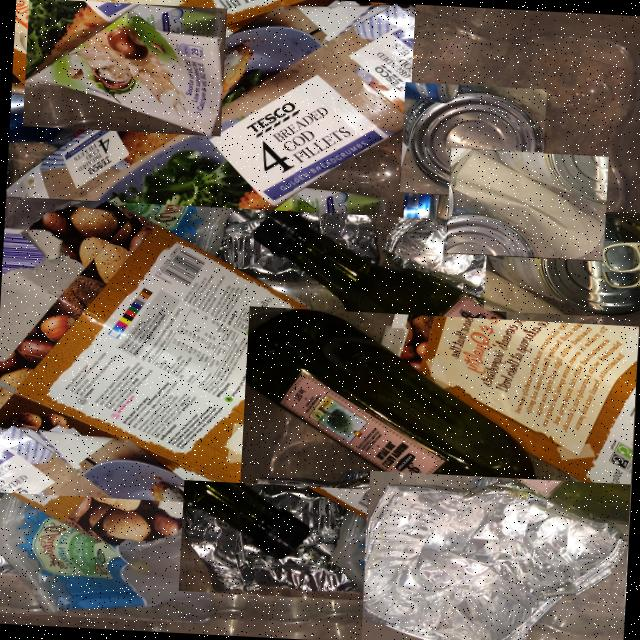Aluminium foil: (363, 477, 628, 640), (183, 486, 363, 595)
Drink can: (294, 171, 454, 241)
Drink carton: (26, 4, 224, 136)
Food Can: (488, 209, 640, 317), (404, 86, 544, 197)
Other carton: (0, 203, 500, 556), (5, 4, 415, 319)
Other plastic container: (246, 310, 627, 578)
Plastic bottle cap: (238, 520, 283, 560)
Plastic film: (0, 494, 215, 615)
Pop tab: (603, 249, 640, 273), (605, 243, 640, 258)
Toilet tube: (450, 150, 605, 259)
